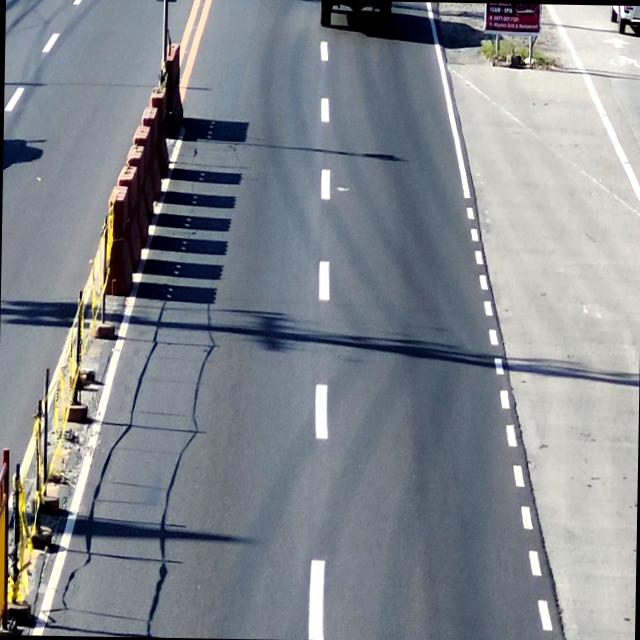Car: (320, 0, 393, 37)
